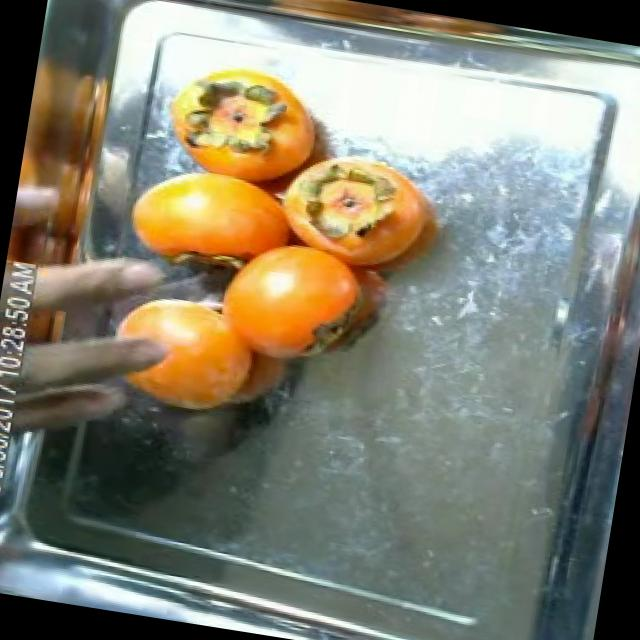Fruit: (105, 145, 308, 293), (146, 42, 330, 177)
